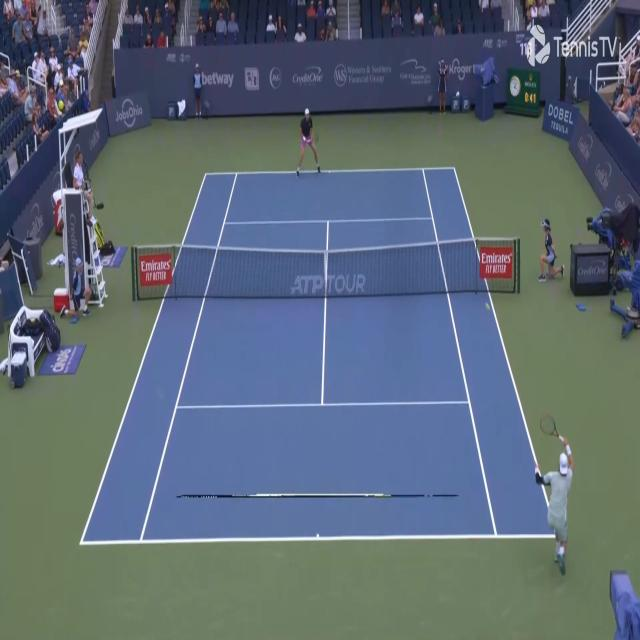tennis-player: (532, 403, 575, 572), (294, 106, 323, 180)
